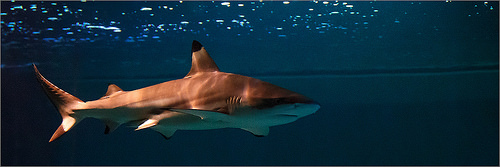shark: (18, 44, 329, 147)
